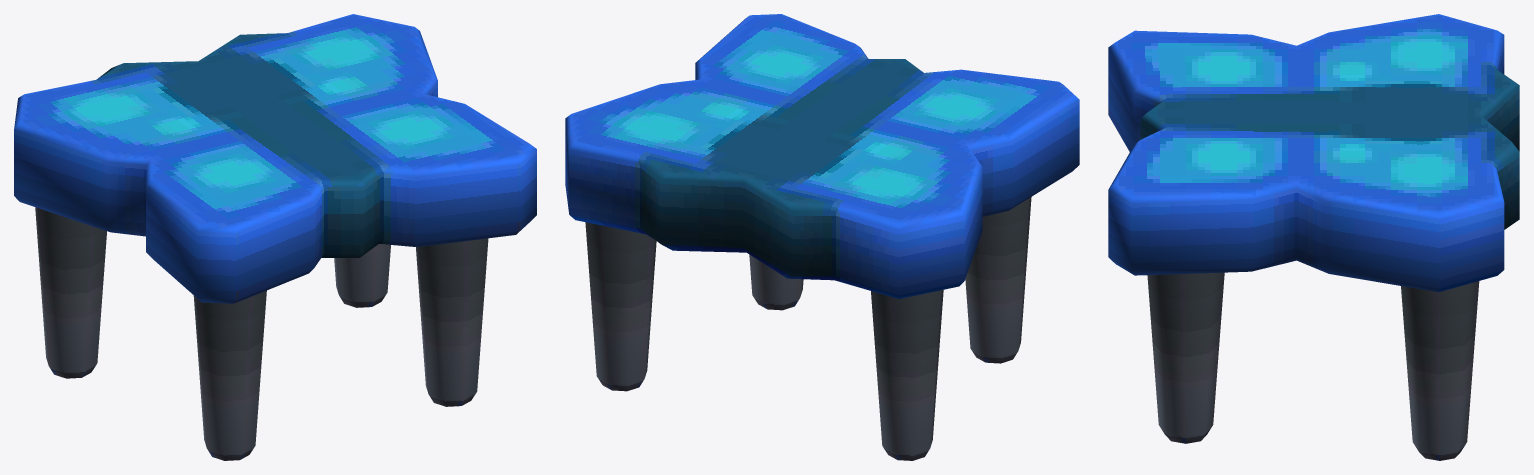
File: int_isc_tableS.dae
3 renders of one model, left to right at view 1: azimuth 30°, elevation 25°; view 2: azimuth 150°, elevation 25°; view 3: azimuth 270°, elevation 25°, orthographic. The views are drawn at different scales.
Parts seen in each view (by area): view 1: int_isc_tableS; view 2: int_isc_tableS; view 3: int_isc_tableS.
Boxes of the visible parts, x1,y1,x2,y2 form: int_isc_tableS: (14, 14, 536, 460); int_isc_tableS: (565, 14, 1079, 460); int_isc_tableS: (1108, 14, 1519, 460).
Size of the model in its own units: 29.37 by 18 by 25.13.
Materials: 1 (1 with a texture image).
